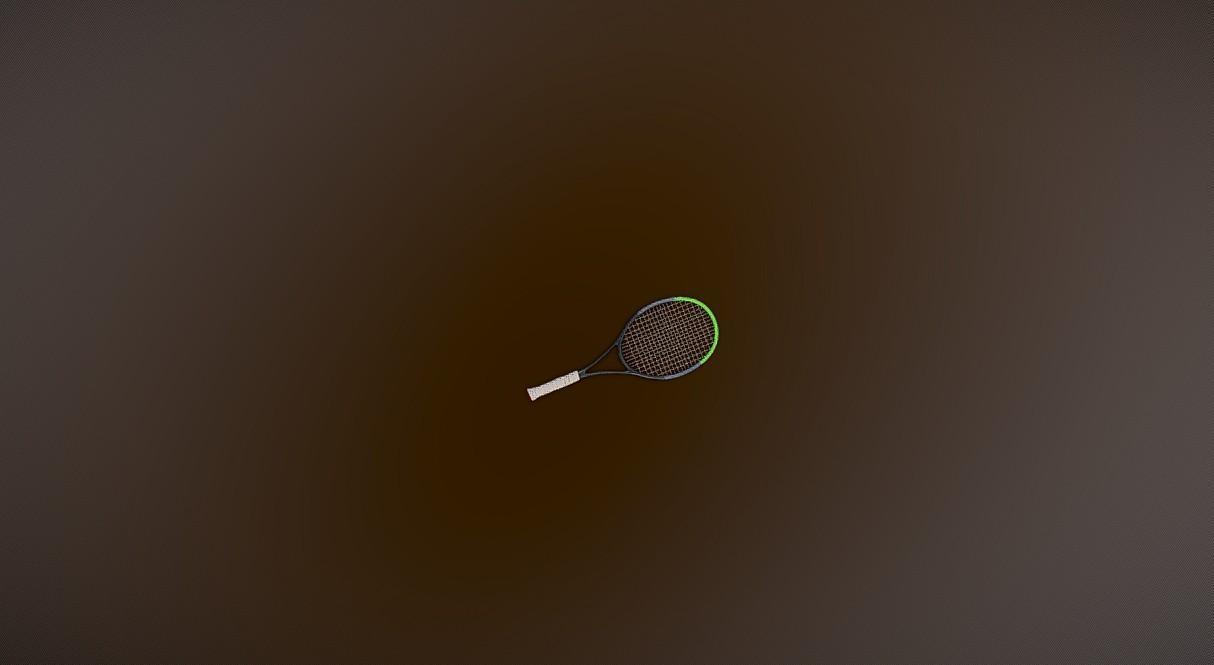Tennis-Racket: (524, 294, 719, 402)
